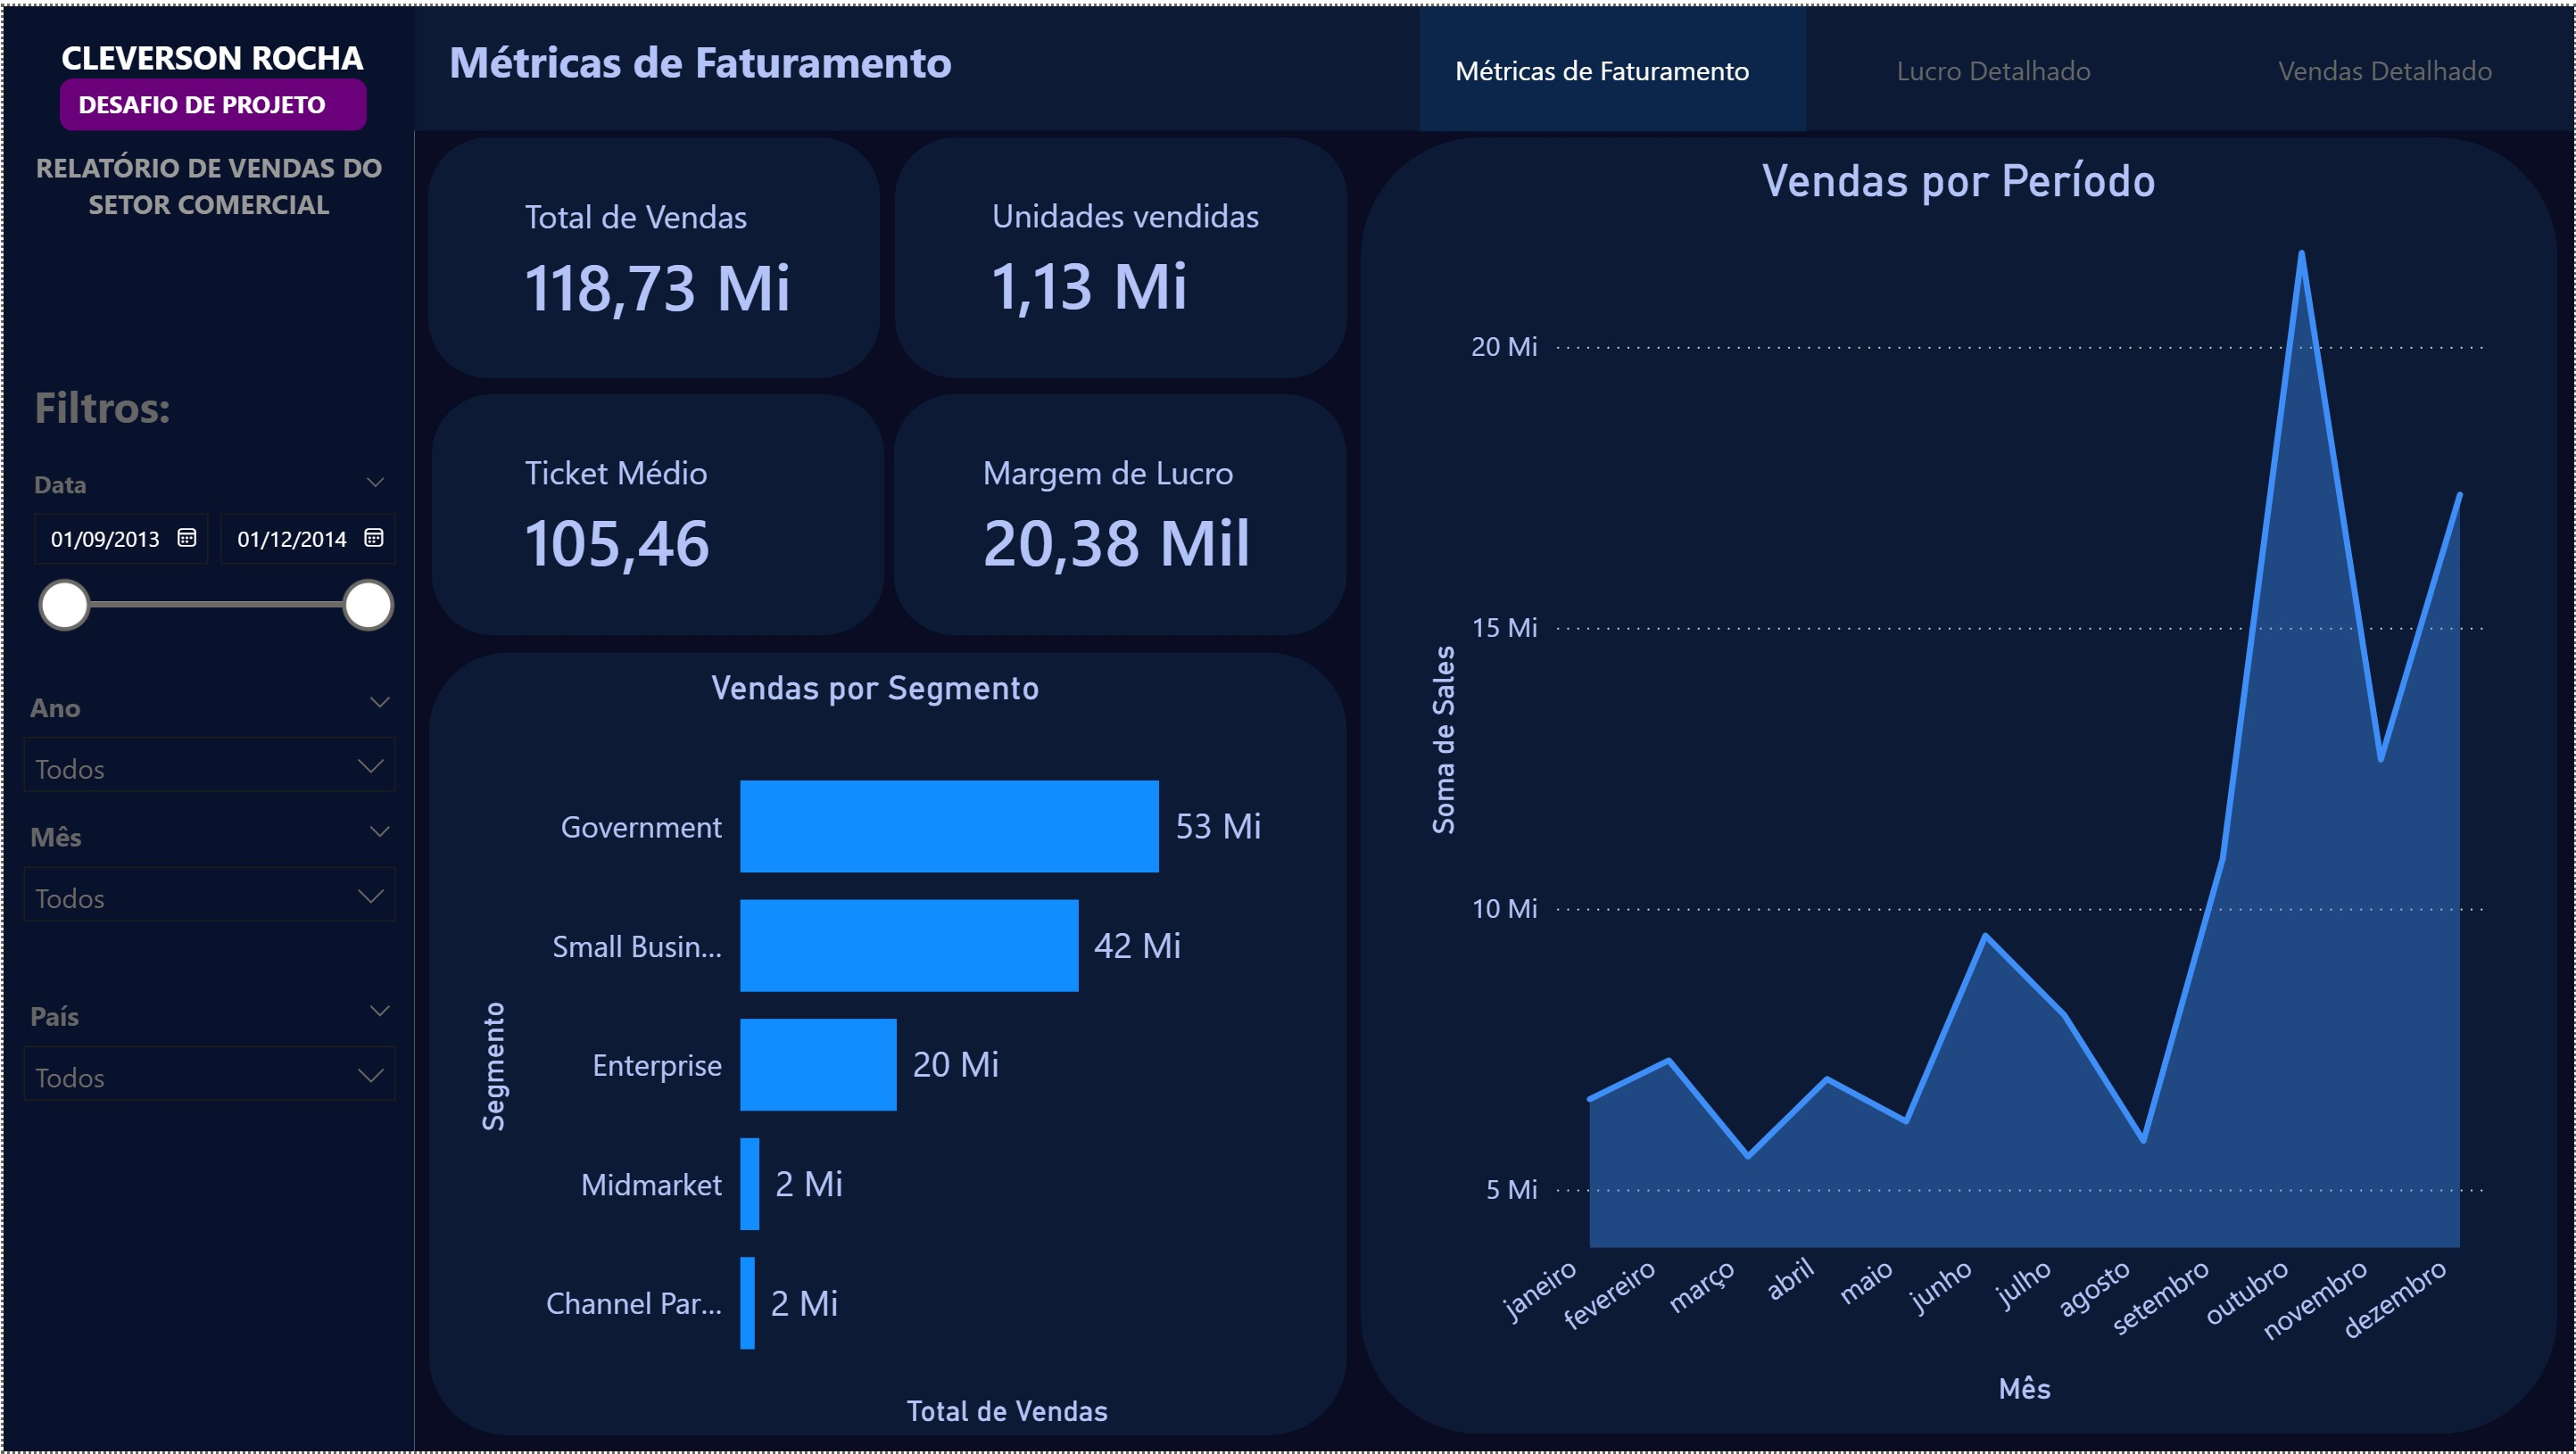

This screenshot's page, from the dashboard's own definition file:
{"tool":"powerbi","page":{"name":"Métricas de Faturamento","canvas":[1280,720],"ordinal":0},"visuals":[{"type":"pageNavigator","box":[717.9,35,562.1,62.1],"z":0,"group":"g2"},{"type":"areaChart","title":"Vendas por Período","fields":{"Category":["financials.Date.Variation.Hierarquia de datas.Ano","financials.Date.Variation.Hierarquia de datas.Mês"],"Y":["Sum(financials. Sales)"]},"box":[704.1,73.5,540,627.9],"z":0,"group":"g1"},{"type":"shape","box":[1087.7,0,192.3,62.3],"z":1000,"group":"g2"},{"type":"shape","box":[896.9,0,192.3,62.3],"z":2000,"group":"g2"},{"type":"shape","box":[204.6,59.2,1075.4,660.8],"z":3000,"group":"g2"},{"type":"shape","box":[0,0,1280,62.1],"z":4000,"group":"g2"},{"type":"shape","box":[211.5,65.4,225.4,120],"z":5000,"group":"g2"},{"type":"shape","box":[0,0,204.6,720],"z":6000,"group":"g2"},{"type":"shape","box":[443.8,65.4,225.4,120],"z":7000,"group":"g2"},{"type":"slicer","fields":{"Values":["financials.Date"]},"box":[2.3,224.6,200.8,97.7],"z":8000,"group":"g2"},{"type":"shape","box":[212.1,322.1,457.1,390],"z":9000,"group":"g2"},{"type":"textbox","box":[5.4,8.5,197.7,40.8],"z":10000,"group":"g2"},{"type":"cardVisual","fields":{"Data":["Sum(financials. Sales)"]},"box":[230.7,65.7,198.6,120],"z":11000,"group":"g2"},{"type":"shape","box":[27.7,36.2,153.1,26.2],"z":12000,"group":"g2"},{"type":"cardVisual","fields":{"Data":["Sum(financials.Units Sold)"]},"box":[463.1,65.4,213.1,120],"z":13000,"group":"g2"},{"type":"textbox","box":[0,33.1,197.7,29.2],"z":14000,"group":"g2"},{"type":"shape","box":[676.2,65.4,596.2,646.2],"z":15000,"group":"g2"},{"type":"textbox","box":[0,65.4,204.6,52.3],"z":16000,"group":"g2"},{"type":"shape","box":[213.7,193.6,225.4,120],"z":17000,"group":"g2"},{"type":"textbox","box":[10,178.8,193.1,40],"z":18000,"group":"g2"},{"type":"cardVisual","fields":{"Data":["financials.Ticket Médio"]},"box":[230.7,193.6,213.6,120],"z":19000,"group":"g2"},{"type":"slicer","fields":{"Values":["financials.Date.Variation.Hierarquia de datas.Ano"]},"box":[0,333.8,205.4,63.8],"z":20000,"group":"g2"},{"type":"shape","box":[443.6,193.6,225.7,120],"z":21000,"group":"g2"},{"type":"slicer","fields":{"Values":["financials.Date.Variation.Hierarquia de datas.Mês"]},"box":[0,398.5,205.4,63.8],"z":22000,"group":"g2"},{"type":"cardVisual","fields":{"Data":["financials.Margem de Lucro"]},"box":[458.6,193.6,221.4,120],"z":23000,"group":"g2"},{"type":"clusteredBarChart","title":"Vendas por Segmento","fields":{"Category":["financials.Segment"],"Y":["Sum(financials. Sales)"]},"box":[230.7,329.3,407.1,382.9],"z":24000,"group":"g2"},{"type":"group","id":"g1","title":"Perspectiva temporal das vendas","box":[704.1,73.5,540,627.9],"z":25000,"group":"g2"},{"type":"slicer","fields":{"Values":["financials.Country"]},"box":[0,487.7,205.4,63.8],"z":26000,"group":"g2"},{"type":"textbox","box":[216.9,6.9,321.5,44.6],"z":27000,"group":"g2"},{"type":"shape","box":[705.6,0,192.5,62.5],"z":28000,"group":"g2"},{"type":"pageNavigator","box":[704.3,0,575.7,62.1],"z":29000,"group":"g2"},{"type":"group","id":"g2","title":"Grupo 1","box":[0,0,1280,720],"z":29001}]}

Visuals, with their boxes in screenshot pixels (x1, y1, x2, y2), scaled from the page's 1280x720 canvas onto the 2576x1454 screenshot:
pageNavigator: bbox(1445, 70, 2575, 196)
"Vendas por Período" areaChart: bbox(1417, 148, 2504, 1417)
shape: bbox(2189, 0, 2575, 126)
shape: bbox(1805, 0, 2192, 126)
shape: bbox(411, 120, 2575, 1453)
shape: bbox(0, 0, 2575, 126)
shape: bbox(426, 132, 879, 375)
shape: bbox(0, 0, 411, 1453)
shape: bbox(893, 132, 1346, 375)
slicer - financials.Date: bbox(4, 453, 409, 651)
shape: bbox(427, 650, 1346, 1438)
textbox: bbox(11, 17, 409, 100)
cardVisual - Sum(financials. Sales): bbox(464, 133, 864, 375)
shape: bbox(55, 73, 364, 126)
cardVisual - Sum(financials.Units Sold): bbox(932, 132, 1361, 375)
textbox: bbox(0, 67, 398, 126)
shape: bbox(1361, 132, 2561, 1437)
textbox: bbox(0, 132, 411, 237)
shape: bbox(430, 391, 883, 633)
textbox: bbox(21, 361, 409, 442)
cardVisual - financials.Ticket Médio: bbox(464, 391, 894, 633)
slicer - financials.Date.Variation.Hierarquia de datas.Ano: bbox(0, 674, 413, 803)
shape: bbox(893, 391, 1347, 633)
slicer - financials.Date.Variation.Hierarquia de datas.Mês: bbox(0, 805, 413, 934)
cardVisual - financials.Margem de Lucro: bbox(923, 391, 1369, 633)
"Vendas por Segmento" clusteredBarChart: bbox(464, 665, 1284, 1438)
"Perspectiva temporal das vendas" group: bbox(1417, 148, 2504, 1417)
slicer - financials.Country: bbox(0, 985, 413, 1114)
textbox: bbox(436, 14, 1083, 104)
shape: bbox(1420, 0, 1808, 126)
pageNavigator: bbox(1418, 0, 2575, 126)
"Grupo 1" group: bbox(0, 0, 2575, 1453)
